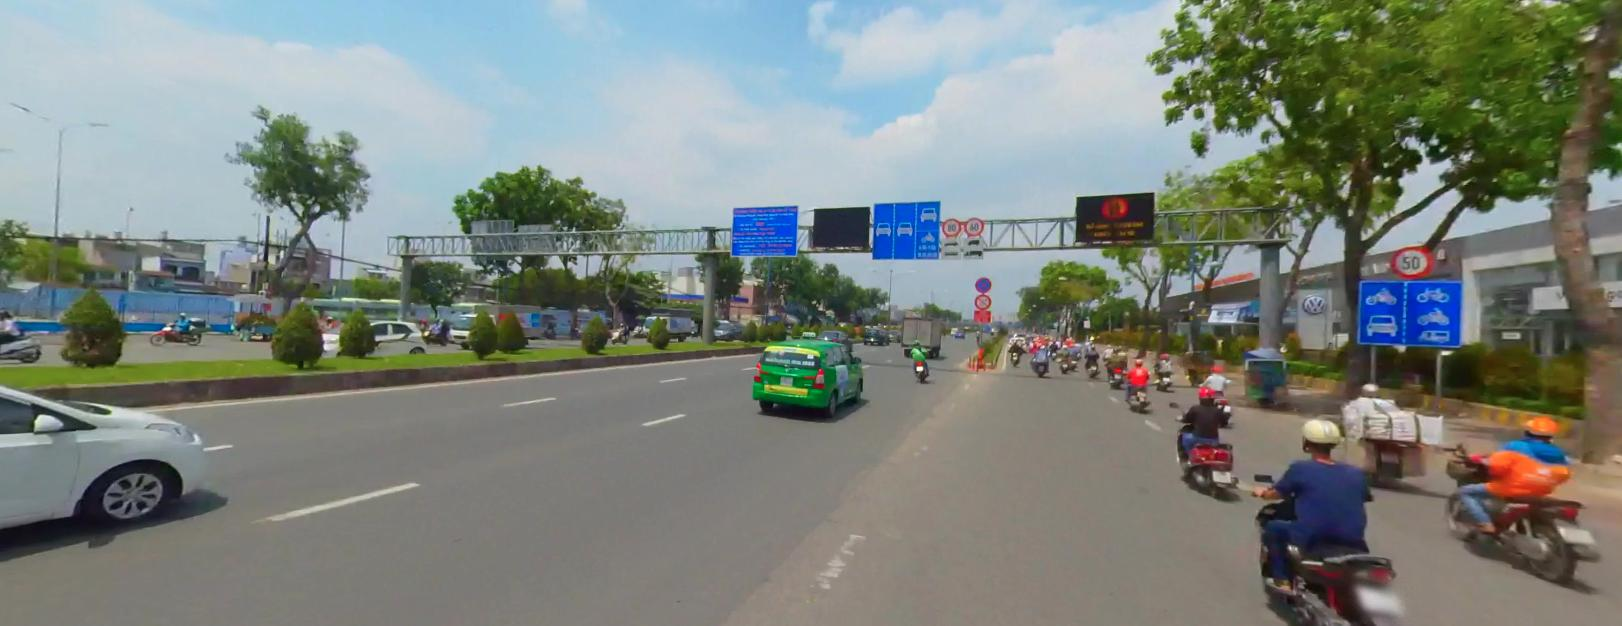Cam con lai: (974, 293, 990, 307)
Cam dung va do: (975, 275, 991, 291)
Gioi han toc do: (1390, 245, 1432, 277), (963, 216, 983, 234), (942, 217, 961, 235)
